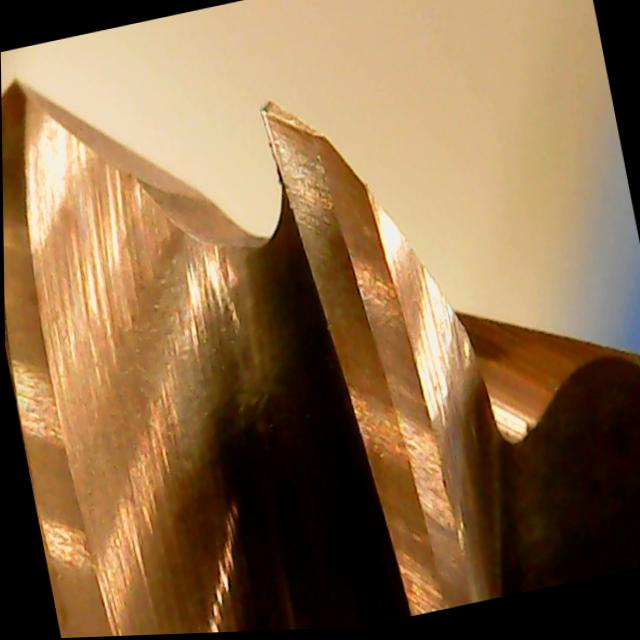Tool-wear-class-1: (255, 86, 384, 359)
